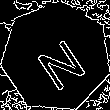N_NW: (26, 25, 86, 89)
